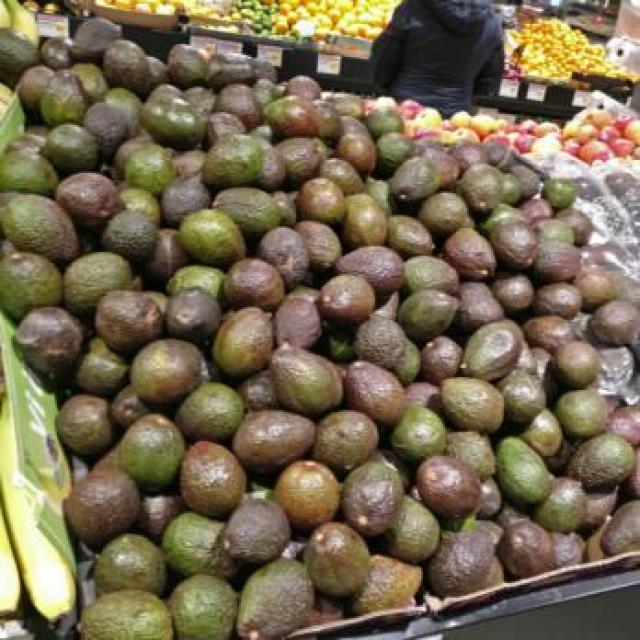Avocado: (239, 557, 316, 638), (0, 193, 81, 261), (66, 470, 144, 540), (272, 344, 344, 416), (163, 513, 244, 576), (132, 340, 208, 405), (425, 532, 496, 600), (200, 134, 289, 188), (72, 594, 178, 638), (125, 414, 184, 491), (232, 410, 316, 464), (309, 526, 375, 594), (171, 576, 243, 638), (96, 533, 169, 594), (18, 309, 86, 373), (184, 443, 245, 513), (348, 460, 402, 539), (276, 460, 340, 526), (2, 252, 64, 320), (222, 498, 292, 558), (98, 288, 168, 346), (348, 359, 410, 423), (438, 377, 506, 434), (57, 394, 120, 454), (498, 436, 552, 506), (180, 208, 248, 263), (320, 410, 381, 471), (214, 309, 272, 373), (417, 458, 482, 515), (460, 320, 526, 375), (180, 382, 243, 438), (68, 250, 132, 305), (142, 94, 206, 147), (566, 438, 634, 487), (116, 136, 176, 191), (502, 524, 563, 576), (215, 187, 283, 230), (444, 228, 498, 281), (0, 150, 59, 198), (224, 260, 285, 306), (342, 248, 405, 291), (103, 210, 156, 261), (261, 226, 305, 287), (399, 292, 456, 338), (524, 239, 583, 283), (320, 274, 379, 318), (106, 40, 152, 94), (89, 103, 132, 160), (46, 129, 101, 173), (500, 371, 546, 423), (38, 74, 86, 123), (298, 176, 348, 222), (493, 217, 537, 269), (557, 393, 609, 436), (265, 98, 325, 134), (394, 154, 442, 198), (600, 502, 638, 557), (215, 84, 263, 127), (462, 164, 502, 213), (390, 213, 436, 254), (165, 44, 206, 85), (526, 314, 576, 346), (338, 136, 377, 177), (497, 276, 537, 311)
